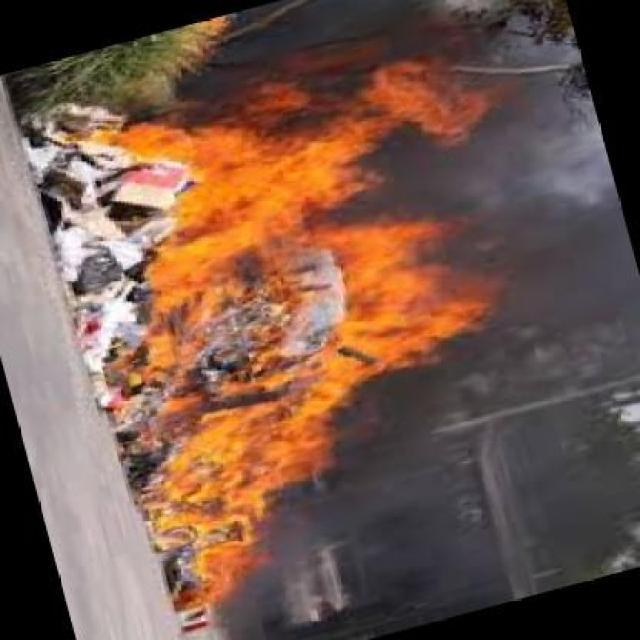Fire: (105, 58, 484, 238), (137, 239, 498, 384), (140, 399, 344, 586)
Smoke: (358, 386, 640, 580), (508, 184, 636, 368), (486, 119, 608, 164)
